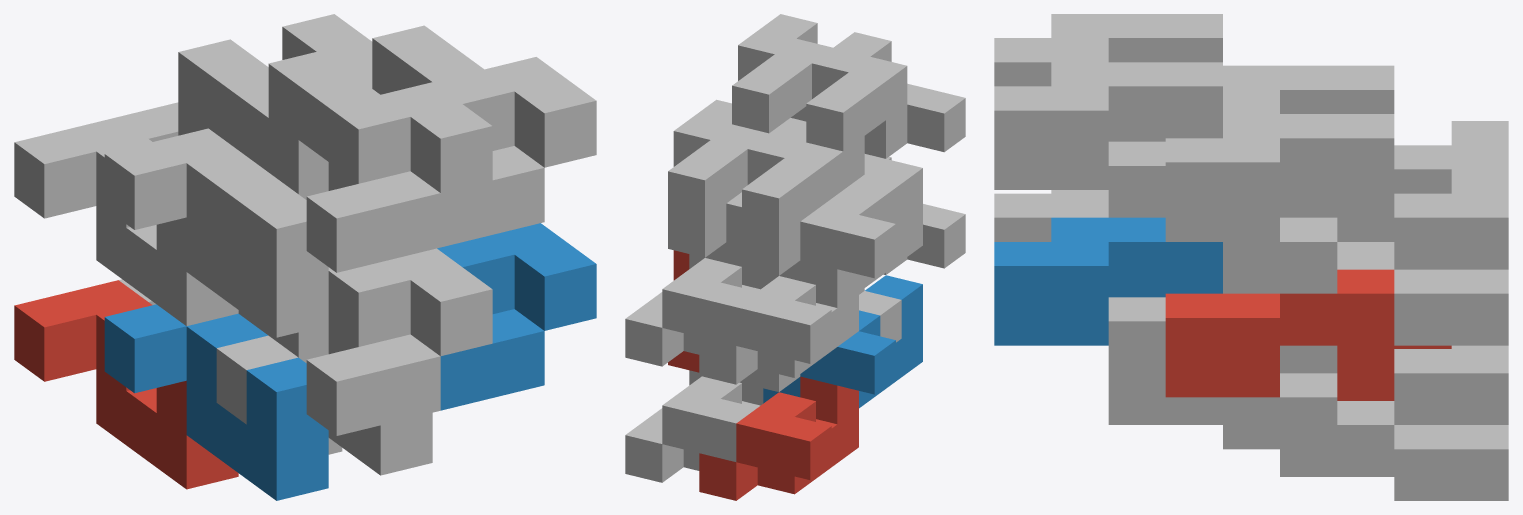
File: tiling.obj
3 views of the same model, side by side, from view 1: azimuth 30°, elevation 25°; view 2: azimuth 150°, elevation 25°; view 3: azimuth 270°, elevation 25° (orthographic). The views are drawn at different scales.
Parts seen in each view (by area): view 1: copy_2_domain_4, copy_2_domain_2, copy_1_domain_4, copy_2_domain_8, copy_1_domain_2, copy_2_domain_6, copy_1_domain_1, copy_1_domain_3, copy_2_domain_3, copy_1_domain_6, copy_2_domain_7, copy_2_domain_1 (+1 smaller); view 2: copy_2_domain_4, copy_1_domain_1, copy_1_domain_3, copy_2_domain_3, copy_2_domain_7, copy_1_domain_4, copy_1_domain_7, copy_1_domain_5, copy_2_domain_8, copy_1_domain_2, copy_2_domain_2, copy_2_domain_1 (+2 smaller); view 3: copy_2_domain_7, copy_1_domain_5, copy_2_domain_5, copy_2_domain_8, copy_2_domain_6, copy_1_domain_7, copy_1_domain_6, copy_1_domain_8, copy_2_domain_4, copy_2_domain_3, copy_1_domain_3, copy_2_domain_2.
Boxes of the visible parts, box(x1,y1,x2,y2) form: copy_2_domain_4: box(268, 51, 492, 272); copy_2_domain_2: box(268, 248, 492, 435); copy_1_domain_4: box(104, 128, 328, 337); copy_2_domain_8: box(372, 25, 596, 247); copy_1_domain_2: box(104, 304, 328, 500); copy_2_domain_6: box(437, 223, 596, 410); copy_1_domain_1: box(14, 280, 238, 489); copy_1_domain_3: box(14, 117, 238, 326); copy_2_domain_3: box(178, 39, 328, 260); copy_1_domain_6: box(328, 412, 432, 475); copy_2_domain_7: box(282, 14, 372, 88); copy_2_domain_1: box(216, 310, 328, 424); copy_2_domain_4: box(806, 32, 965, 189); copy_1_domain_1: box(699, 376, 858, 500); copy_1_domain_3: box(699, 260, 858, 384); copy_2_domain_3: box(742, 118, 901, 275); copy_2_domain_7: box(668, 99, 768, 257); copy_1_domain_4: box(763, 159, 922, 291); copy_1_domain_7: box(625, 242, 763, 366); copy_1_domain_5: box(625, 376, 763, 482); copy_2_domain_8: box(732, 14, 832, 133); copy_1_domain_2: box(763, 275, 922, 408); copy_2_domain_2: box(859, 154, 965, 294); copy_2_domain_1: box(742, 291, 901, 391); copy_2_domain_7: box(1165, 114, 1394, 241); copy_1_domain_5: box(1280, 345, 1508, 500); copy_2_domain_5: box(1165, 269, 1394, 397); copy_2_domain_8: box(994, 62, 1222, 189); copy_2_domain_6: box(994, 217, 1222, 345); copy_1_domain_7: box(1337, 169, 1508, 345); copy_1_domain_6: box(1108, 297, 1337, 449); copy_1_domain_8: box(1108, 141, 1337, 293); copy_2_domain_4: box(994, 14, 1222, 86); copy_2_domain_3: box(1223, 65, 1394, 113); copy_1_domain_3: box(1394, 121, 1508, 193); copy_2_domain_2: box(994, 190, 1108, 241).
Bounding box in the file's own units: 6 × 8 × 9.
